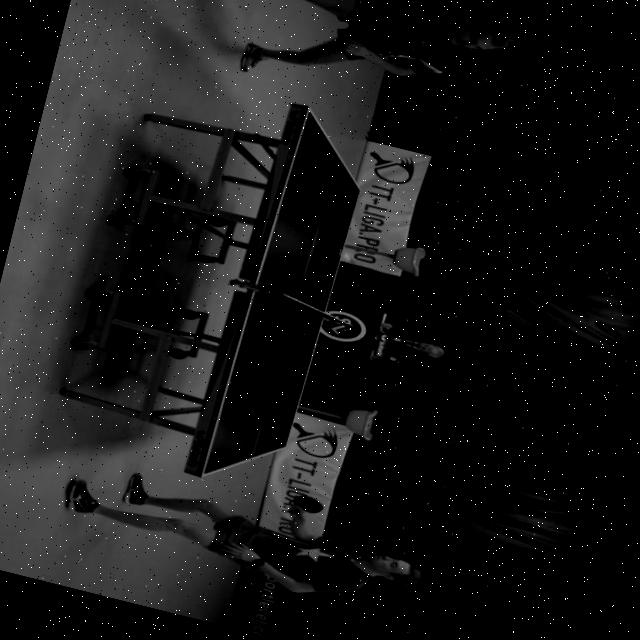ping-pong-ball: (337, 248, 352, 262)
